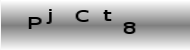8: (123, 21, 137, 34)
C: (74, 9, 90, 23)
P: (27, 16, 42, 30)
j: (46, 8, 53, 26)
t: (102, 8, 113, 22)
